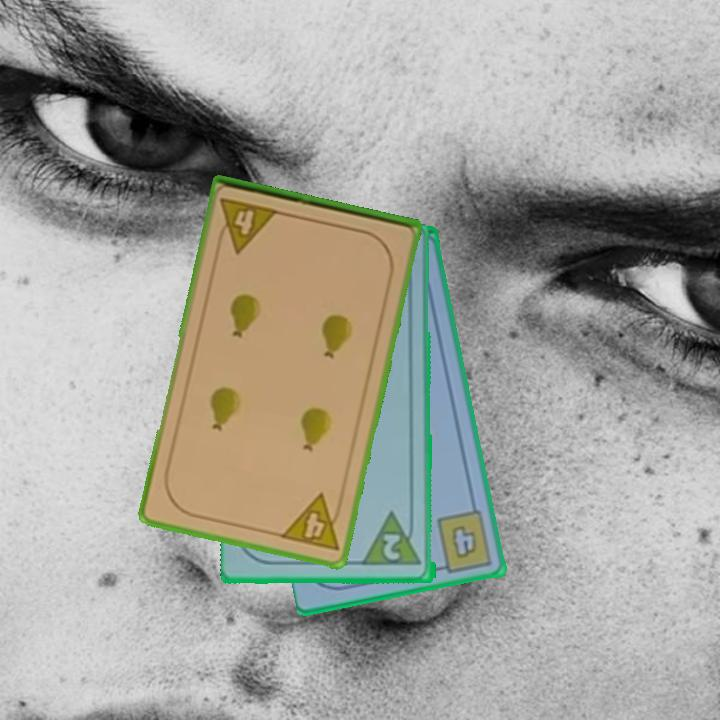2p: (362, 510, 425, 569)
4b: (432, 506, 496, 575)
4p: (277, 490, 347, 554), (213, 194, 282, 256)
